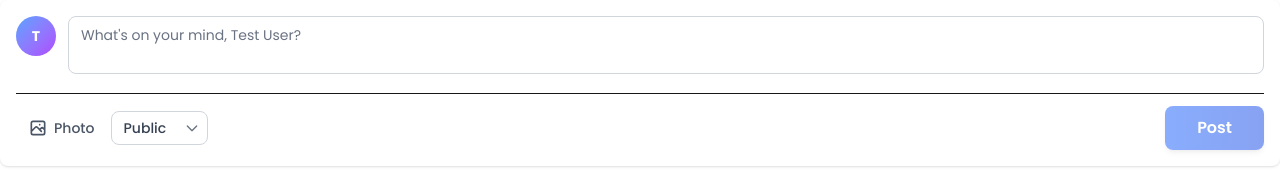
Test: CreatePostForm Component › should disable submit button while posting
The image size is (1280, 184).
Type "My new post" into the text box at (666, 45), box top-left (68, 16), bottom-right (1264, 74)
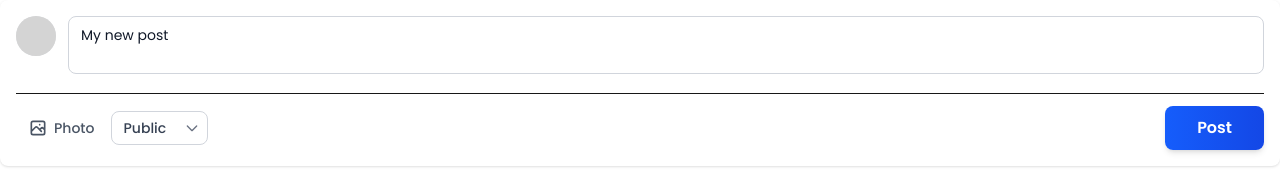
Click the button "Post" at (1215, 128), box top-left (1165, 106), bottom-right (1264, 150)
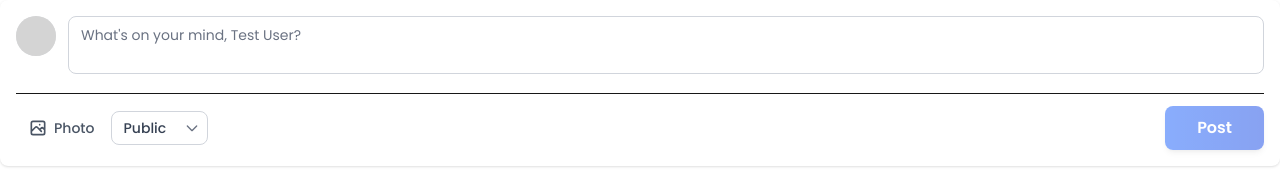
Expected: the button "Post" is disabled, top-left (1165, 106), bottom-right (1264, 150)
